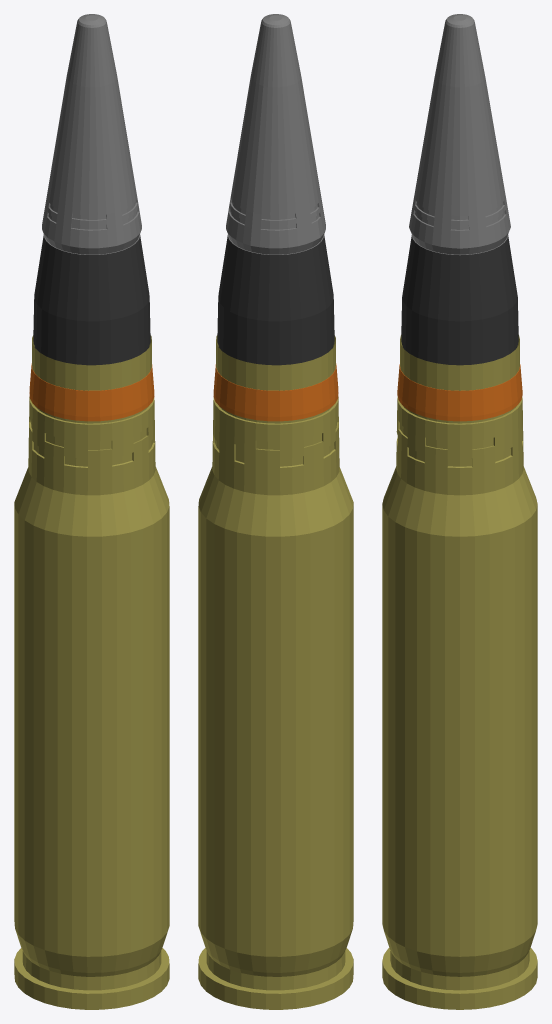
File: 2A42 Shell.fbx
The picture shows the model from 3 angles, left to right: view 1: azimuth 30°, elevation 25°; view 2: azimuth 150°, elevation 25°; view 3: azimuth 270°, elevation 25°; orthographic projection.
Visible parts, largest first — view 1: Shell Body, AP Head, HE Head, Shell RIng; view 2: Shell Body, AP Head, HE Head, Shell RIng; view 3: Shell Body, AP Head, HE Head, Shell RIng.
Boxes of the visible parts, x1,y1,x2,y2 form: Shell Body: (14,335,169,1009); AP Head: (42,14,141,254); HE Head: (33,234,150,365); Shell RIng: (29,363,154,421); Shell Body: (198,335,353,1009); AP Head: (226,14,325,254); HE Head: (217,234,334,365); Shell RIng: (213,363,338,421); Shell Body: (382,335,537,1009); AP Head: (409,14,510,255); HE Head: (401,235,518,365); Shell RIng: (397,364,522,421).
Bounding box in the file's own units: 40.85 × 279 × 40.85.
